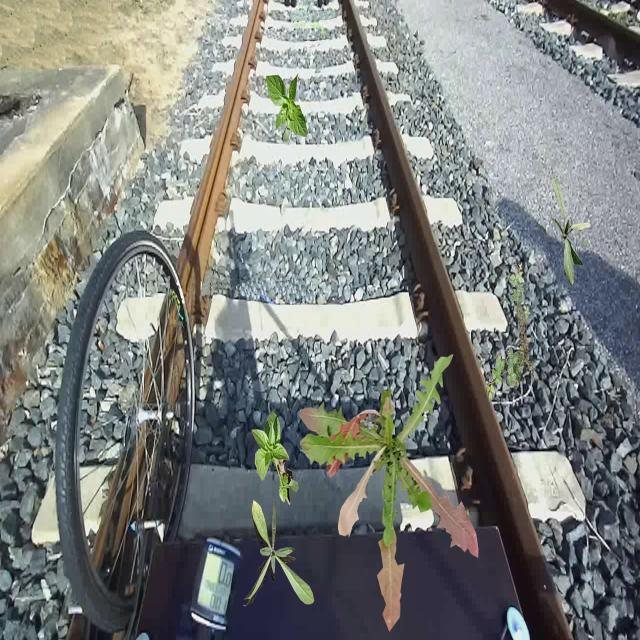Plant: (299, 355, 479, 633), (243, 499, 314, 607), (485, 262, 534, 400), (251, 411, 299, 506), (550, 176, 590, 286), (266, 73, 308, 144)
